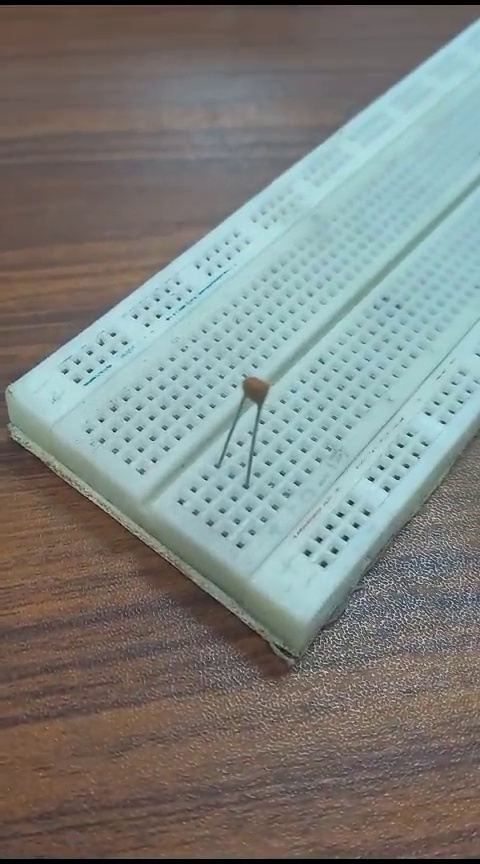ceramic capacitor: (231, 368, 286, 481)
